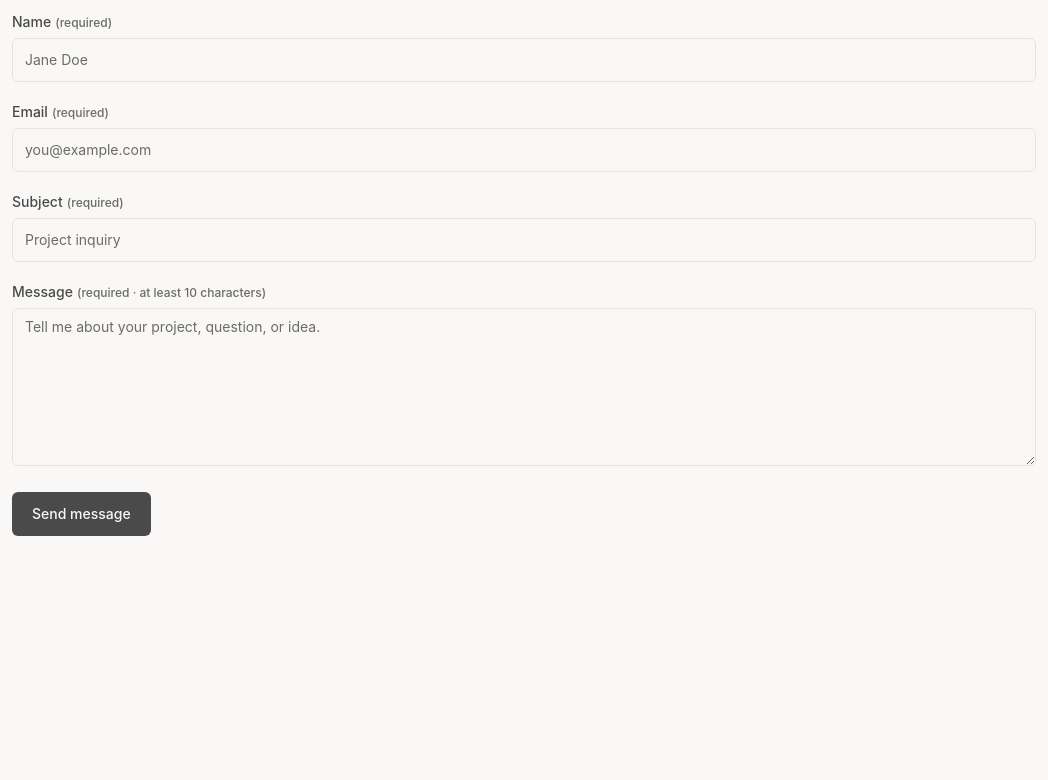
ContactForm submission › replaces the form with a confirmation that offers to send another
The image size is (1048, 780).
Type "山田 太郎" into the field labelled "Name(required)".
click(524, 60); type("山田 太郎")  # box [12,38,1036,82]
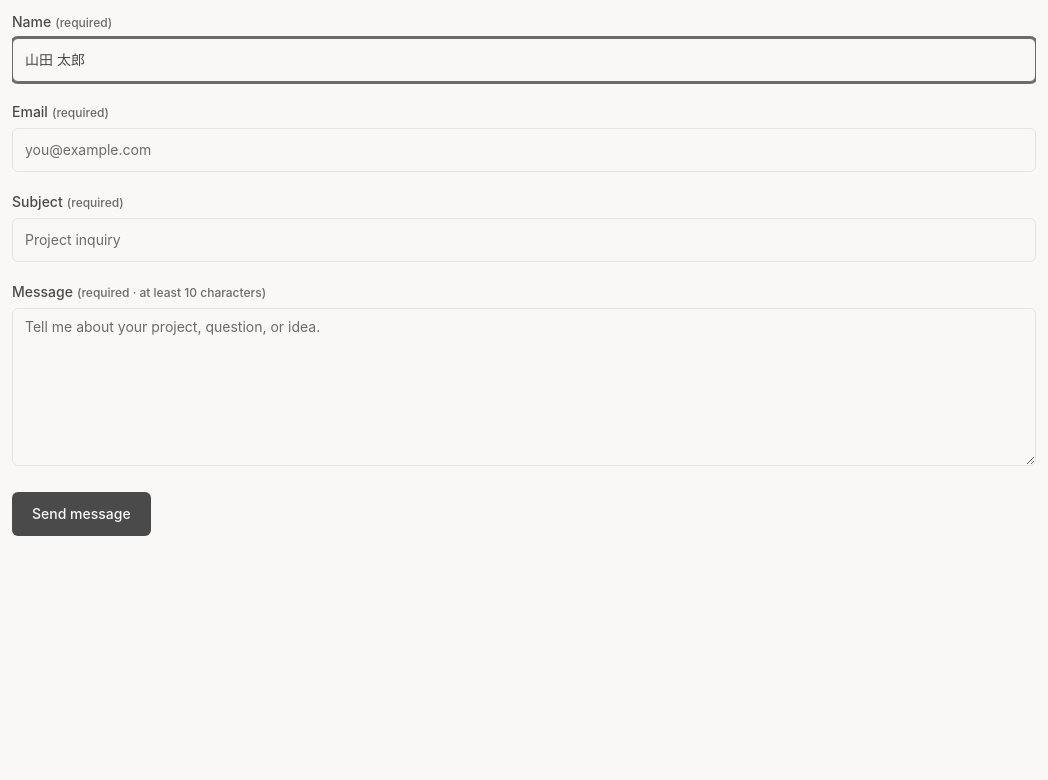
Type "yamada@example.com" into the field labelled "Email(required)".
click(524, 150); type("yamada@example.com")  # box [12,128,1036,172]
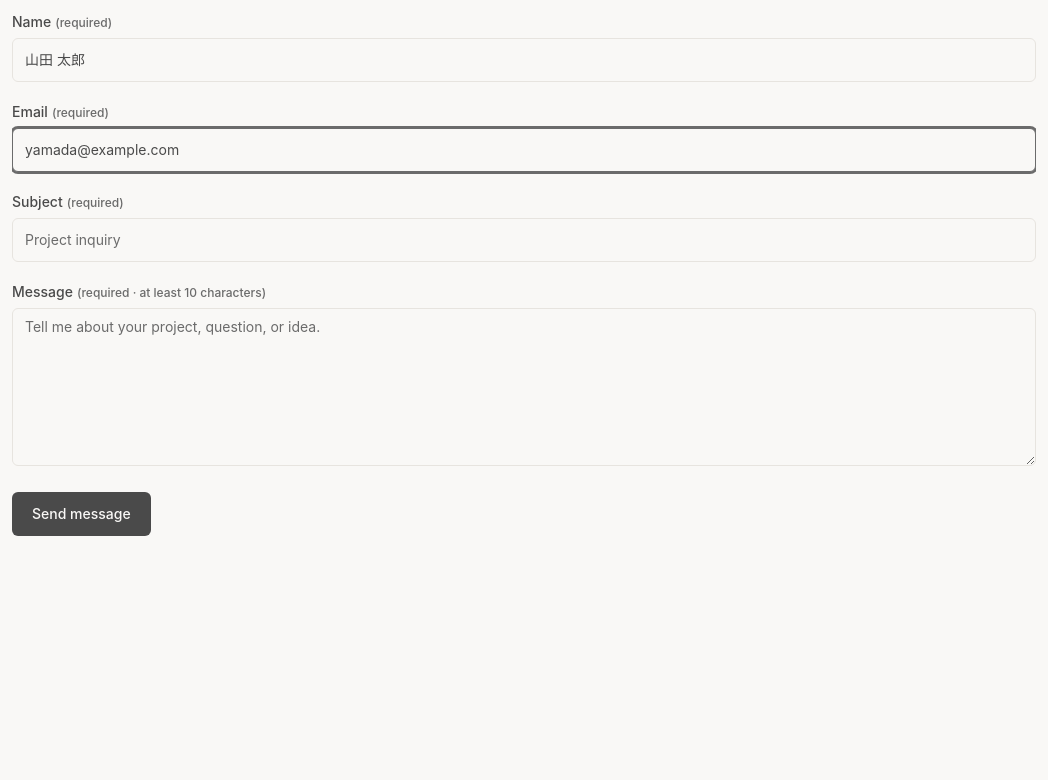
Type "ご相談" into the field labelled "Subject(required)".
click(524, 240); type("ご相談")  # box [12,218,1036,262]
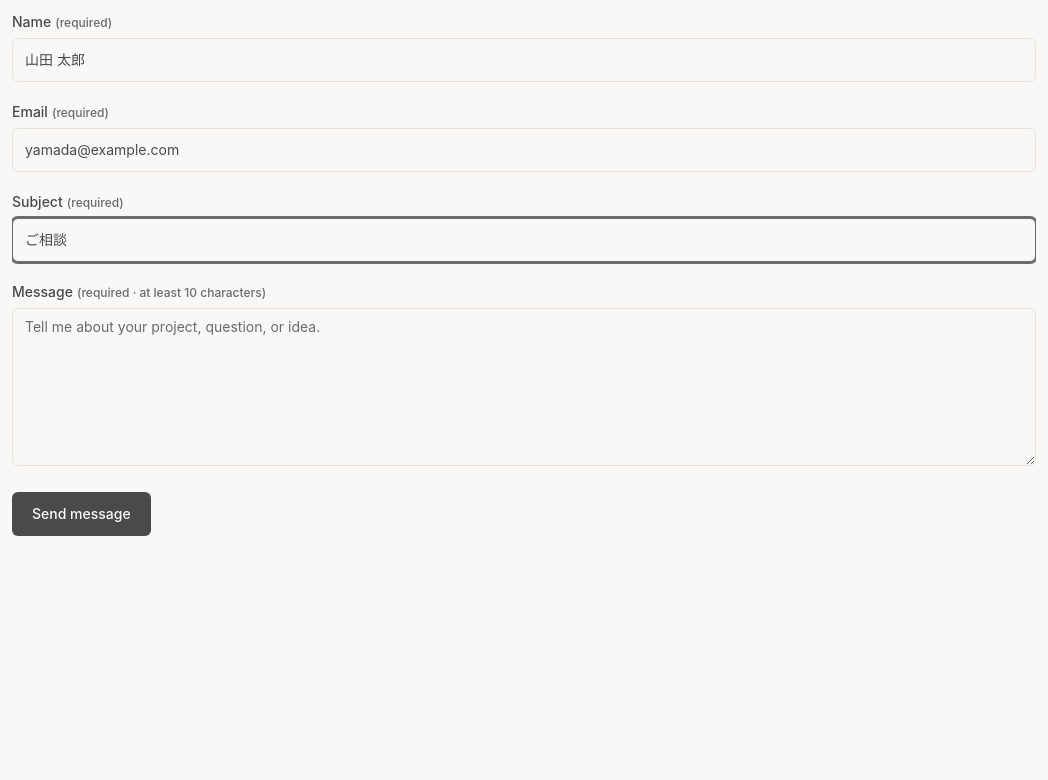
Type "これは十分に長いメッセージ本文です。" into the text box labelled "Message(required · at least 10 characters)".
click(524, 387); type("これは十分に長いメッセージ本文です。")  # box [12,308,1036,466]
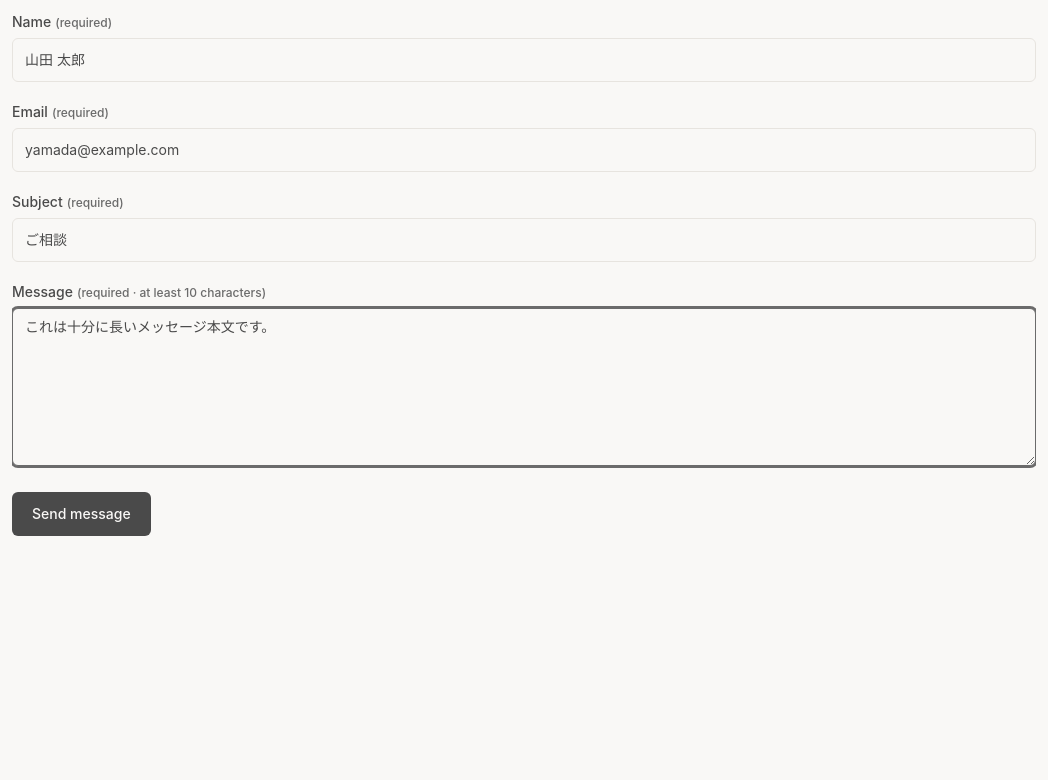
Click the button "Send message".
click(81, 514)  # box [12,492,151,536]
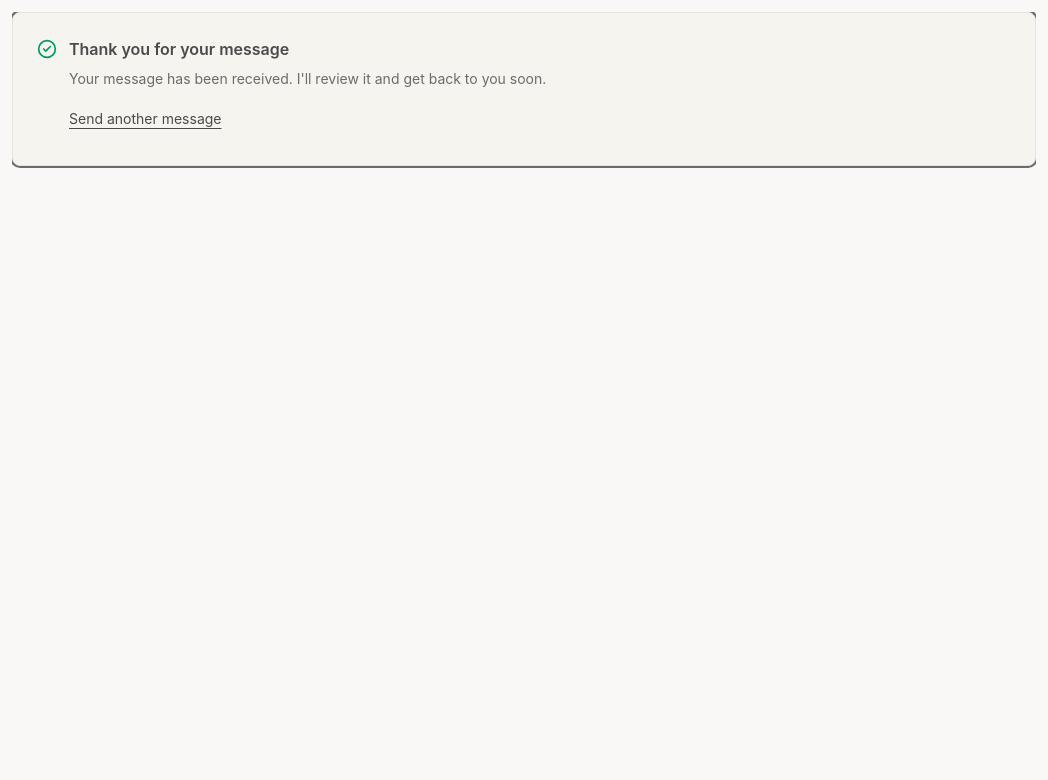
Expected: the element that starts with "Thank you for your message" is shown, [69,39,289,59]
Expected: the element that starts with "Thank you for your message" shows "Your message has been received. I'll review it and get back to you soon.", [69,70,546,87]
Expected: the button "Send message" is gone
